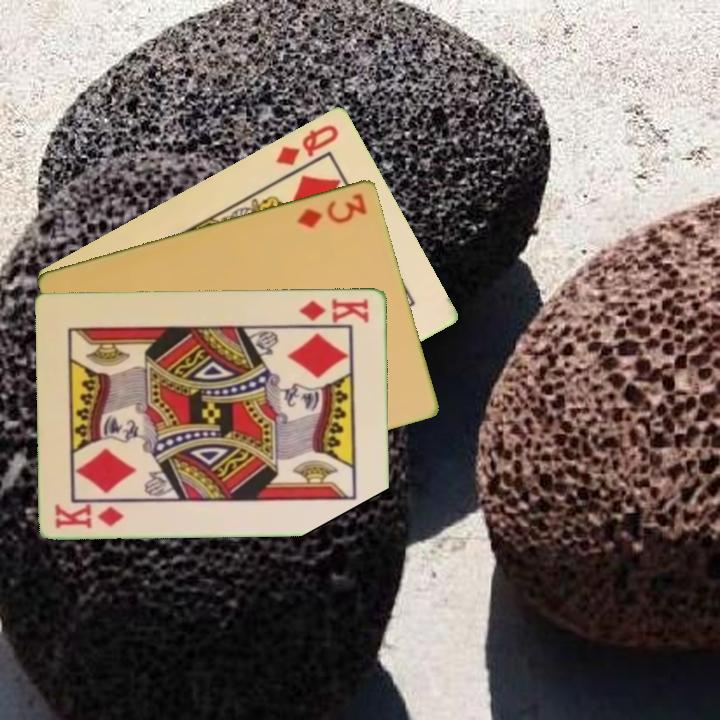3d: (293, 189, 370, 231)
Kd: (295, 295, 372, 326), (52, 500, 127, 531)
Qd: (272, 120, 342, 168)
